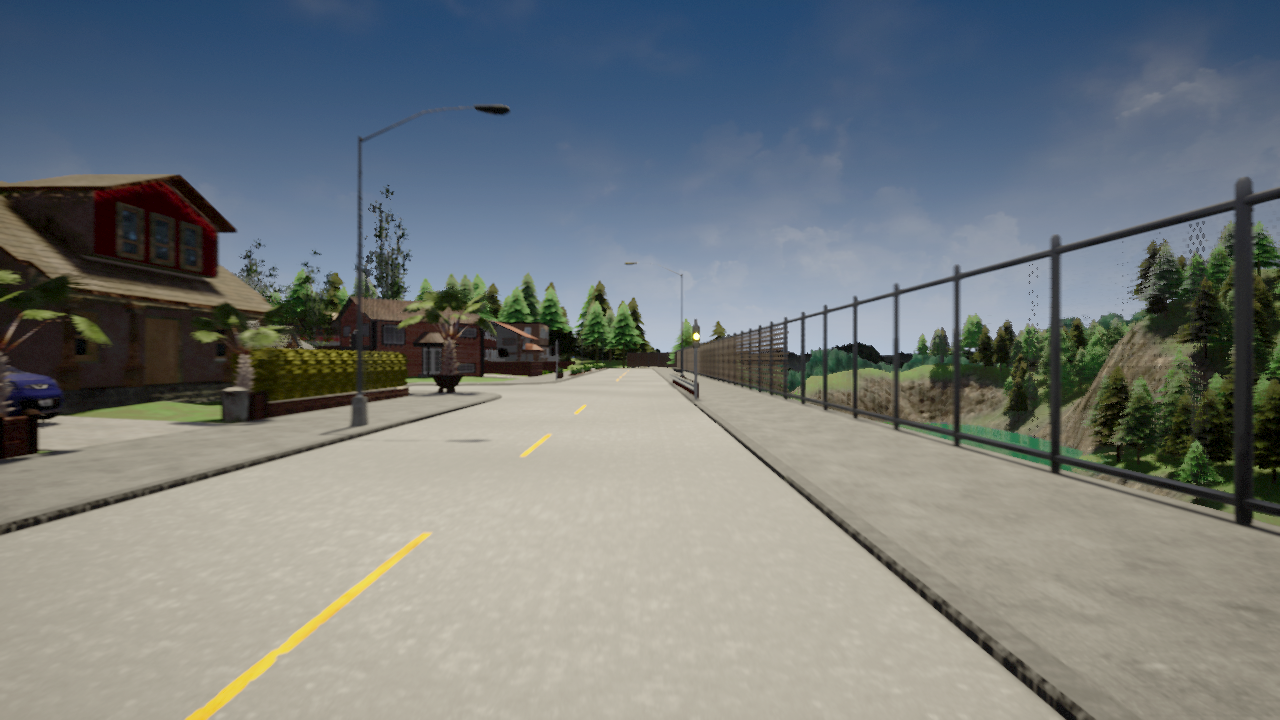yellow: (690, 324, 700, 349)
